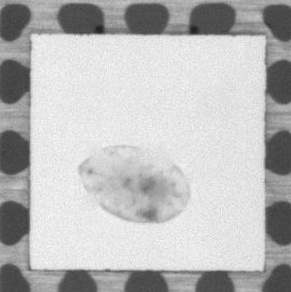DIE_INK: (69, 138, 198, 233)
